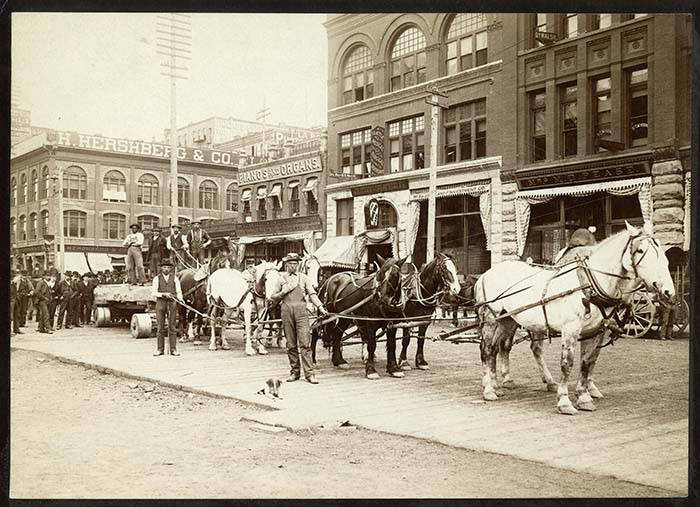fachada: (327, 15, 700, 276), (8, 129, 244, 263), (229, 139, 324, 266)
poste: (148, 10, 189, 229)
